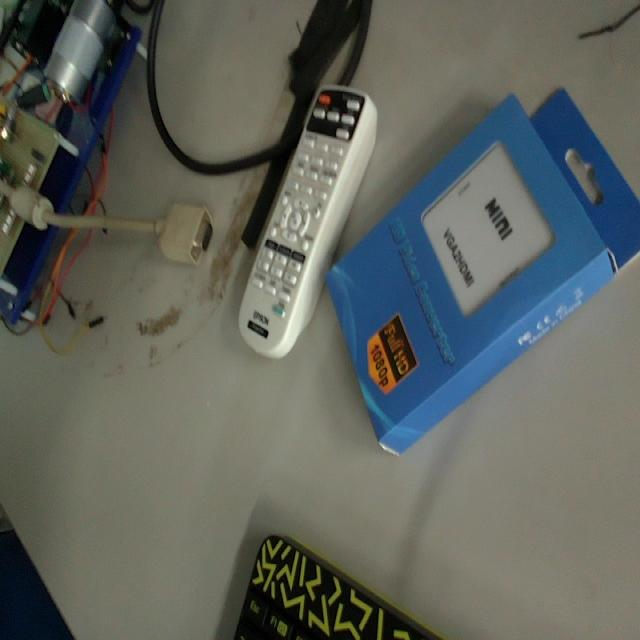remote: (331, 90, 640, 461), (246, 92, 380, 353)
